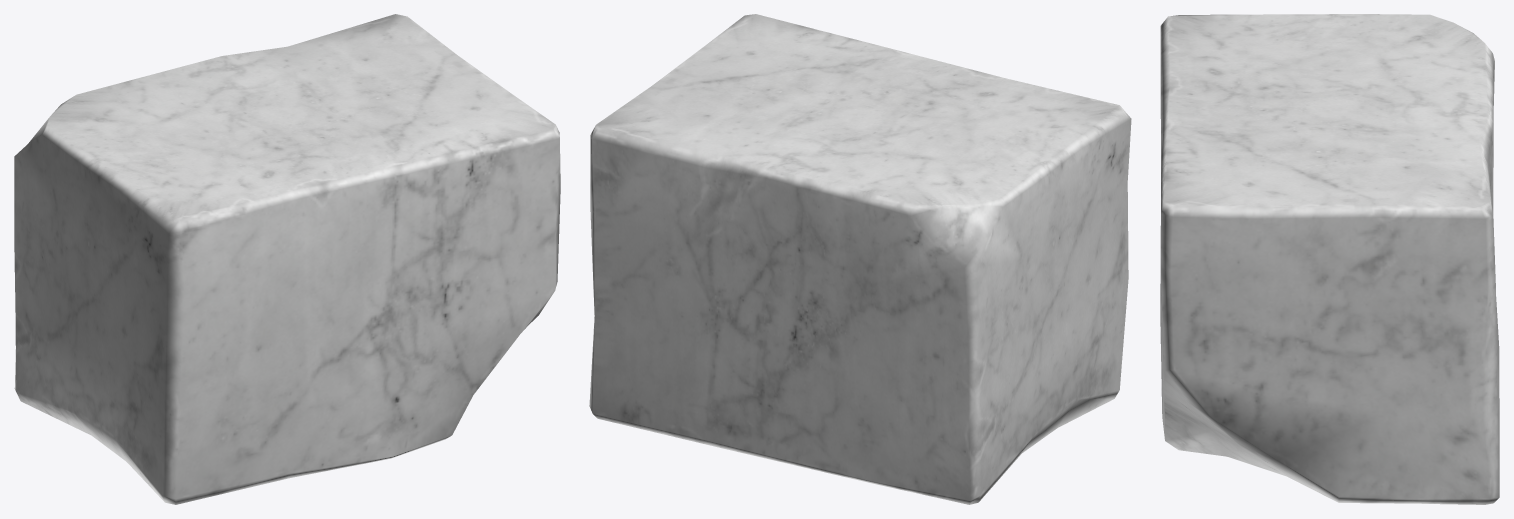
Rendered from marble_cube_exp4.FBX.
3 renders of one model, left to right at view 1: azimuth 30°, elevation 25°; view 2: azimuth 150°, elevation 25°; view 3: azimuth 270°, elevation 25°, orthographic. The views are drawn at different scales.
Visible parts, largest first — view 1: marble_cube_exp4; view 2: marble_cube_exp4; view 3: marble_cube_exp4.
Part boxes in pixels (box(x1,y1,x2,y2)): marble_cube_exp4: box(14, 14, 560, 504); marble_cube_exp4: box(589, 14, 1131, 504); marble_cube_exp4: box(1160, 14, 1499, 504).
Size of the model in its own units: 40.58 by 28.96 by 29.43.
